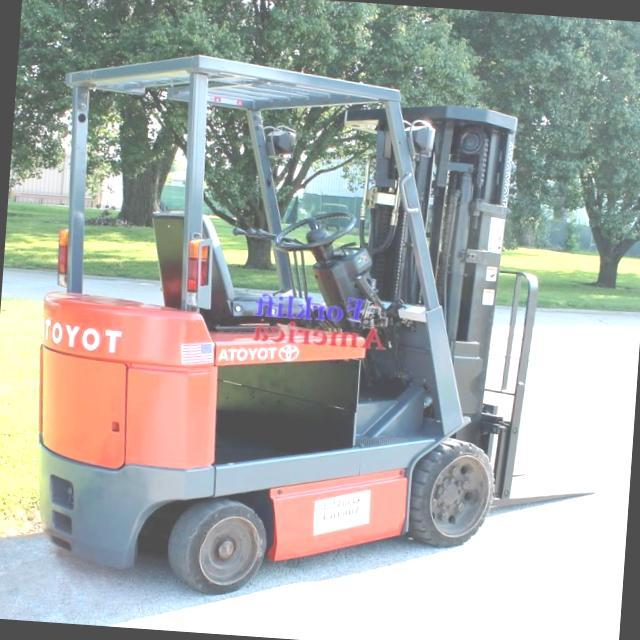forklift: (19, 30, 570, 629)
